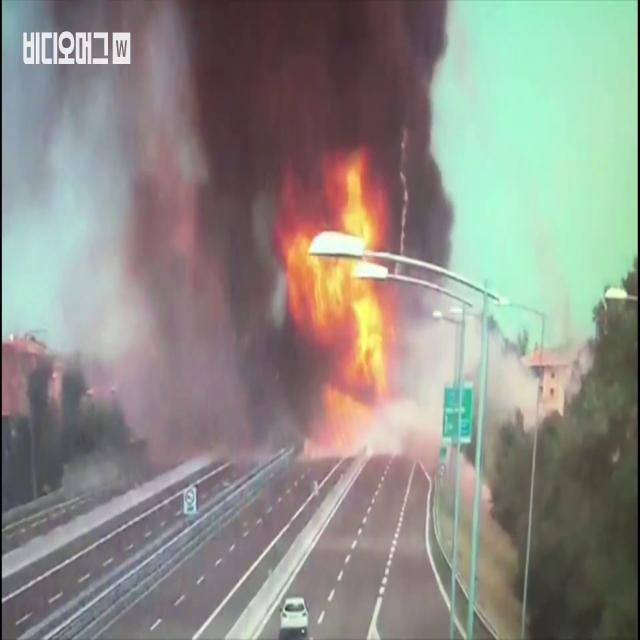explosion: (142, 19, 490, 526)
